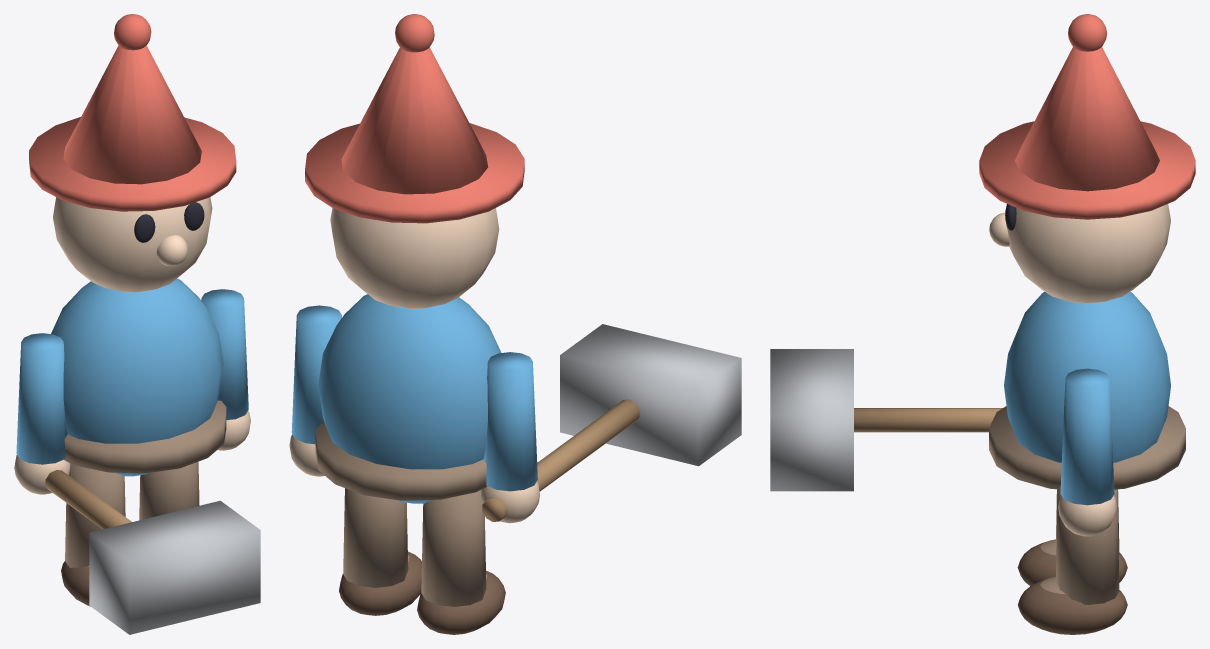
File: player.glb
3 views of the same model, side by side, from view 1: azimuth 30°, elevation 25°; view 2: azimuth 150°, elevation 25°; view 3: azimuth 270°, elevation 25° (orthographic). The views are drawn at different scales.
Parts seen in each view (by area): view 1: Body, Hat, PlayerHammer, Head, ArmR, Belt, ArmL, LegR, LegL, Eyes; view 2: Body, Hat, PlayerHammer, Head, LegR, LegL, ArmR, Belt, ArmL; view 3: Hat, Body, PlayerHammer, Head, LegL, ArmL, Belt, LegR.
Part boxes in pixels (box(x1,y1,x2,y2)): Body: box(51, 278, 223, 476); Hat: box(29, 14, 236, 211); PlayerHammer: box(45, 470, 260, 634); Head: box(53, 197, 212, 292); ArmR: box(14, 333, 70, 494); Belt: box(64, 400, 226, 473); ArmL: box(201, 289, 250, 450); LegR: box(61, 463, 125, 606); LegL: box(139, 461, 199, 520); Eyes: box(134, 202, 204, 242); Body: box(318, 294, 501, 503); Hat: box(305, 14, 524, 223); PlayerHammer: box(482, 324, 741, 521); Head: box(330, 208, 499, 308); LegR: box(417, 490, 505, 634); LegL: box(339, 488, 421, 615); ArmR: box(480, 352, 539, 523); Belt: box(315, 423, 486, 500); ArmL: box(289, 305, 341, 476); Hat: box(979, 14, 1195, 219); Body: box(1004, 291, 1170, 462); PlayerHammer: box(770, 349, 1002, 491); Head: box(989, 204, 1170, 303); LegL: box(1018, 489, 1127, 634); ArmL: box(1058, 368, 1116, 536); Belt: box(989, 406, 1185, 489); LegR: box(1017, 489, 1127, 585).
Size of the model in its own units: 0.66 by 1.34 by 0.865.
